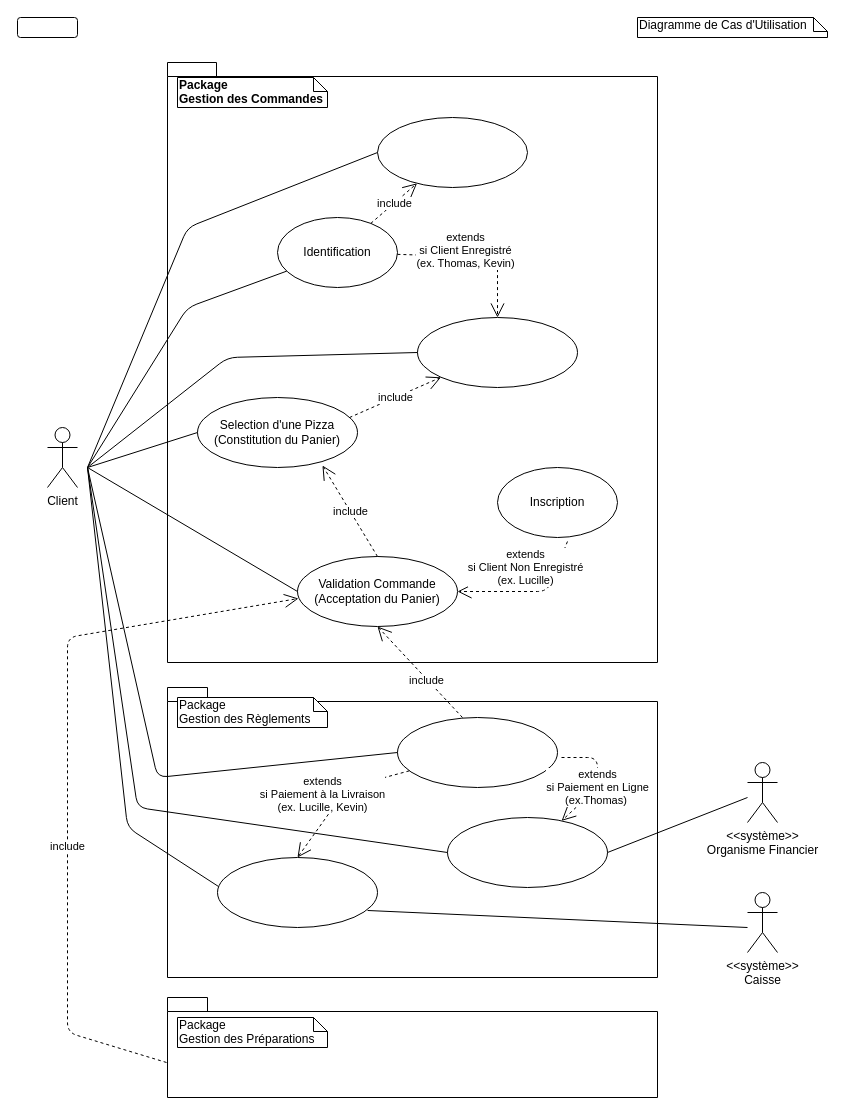
This 845x1115 diagram has some shape labels left out. Here are the shapes that lost their labels. From the top down, the centre of each, then its label:
At [47,27]: "OC'Pizza".
At [452,152]: "Connection au Système".
At [497,352]: "Consultation des Produits (pizzas) & Points de Vente".
At [477,752]: "Choix Mode de Paiement (en Ligne, à la Livraison)".
At [527,852]: "Paiement en Ligne".
At [297,892]: "Paiement à la Livraison".
